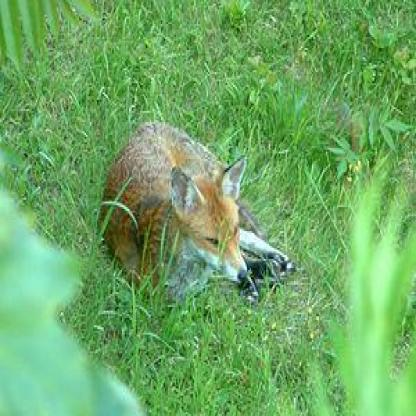dhole: (96, 113, 291, 298)
